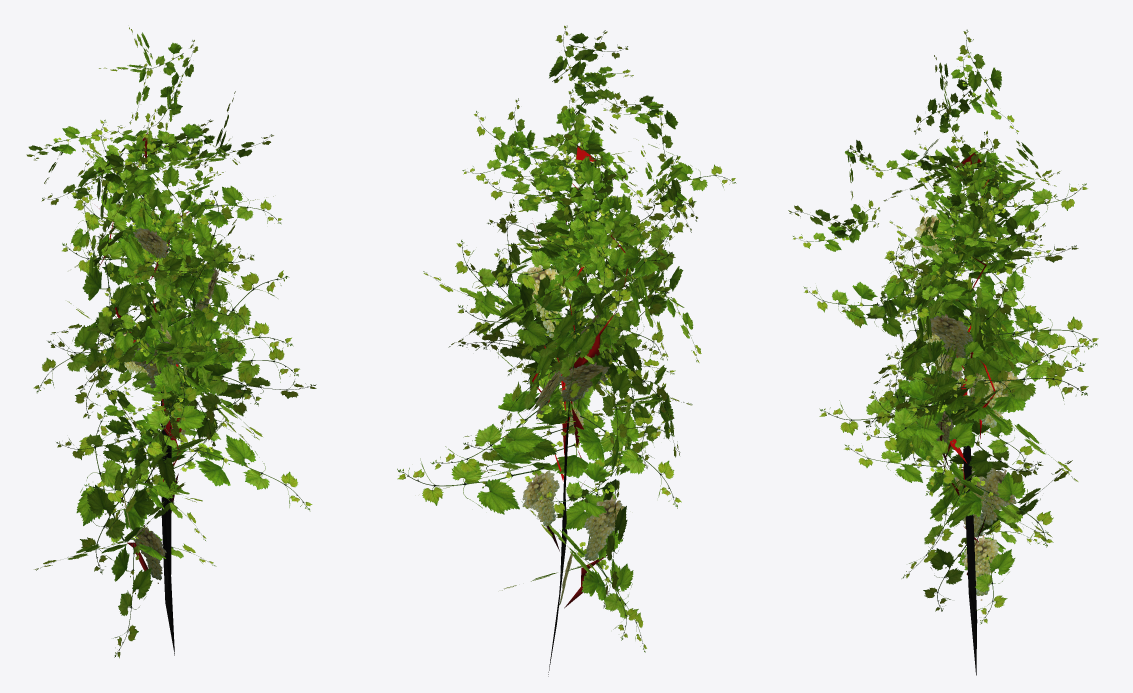
File: grape2 lod1.FBX
3 views of the same model, side by side, from view 1: azimuth 30°, elevation 25°; view 2: azimuth 150°, elevation 25°; view 3: azimuth 270°, elevation 25° (orthographic). The views are drawn at different scales.
Parts seen in each view (by area): view 1: grape003; view 2: grape003; view 3: grape003.
Boxes of the visible parts, left/top/right/bottom form: grape003: left=26, top=27, right=316, bottom=658; grape003: left=397, top=25, right=736, bottom=676; grape003: left=788, top=29, right=1098, bottom=675.
Bounding box in the file's own units: 24911 × 56905 × 27420.
